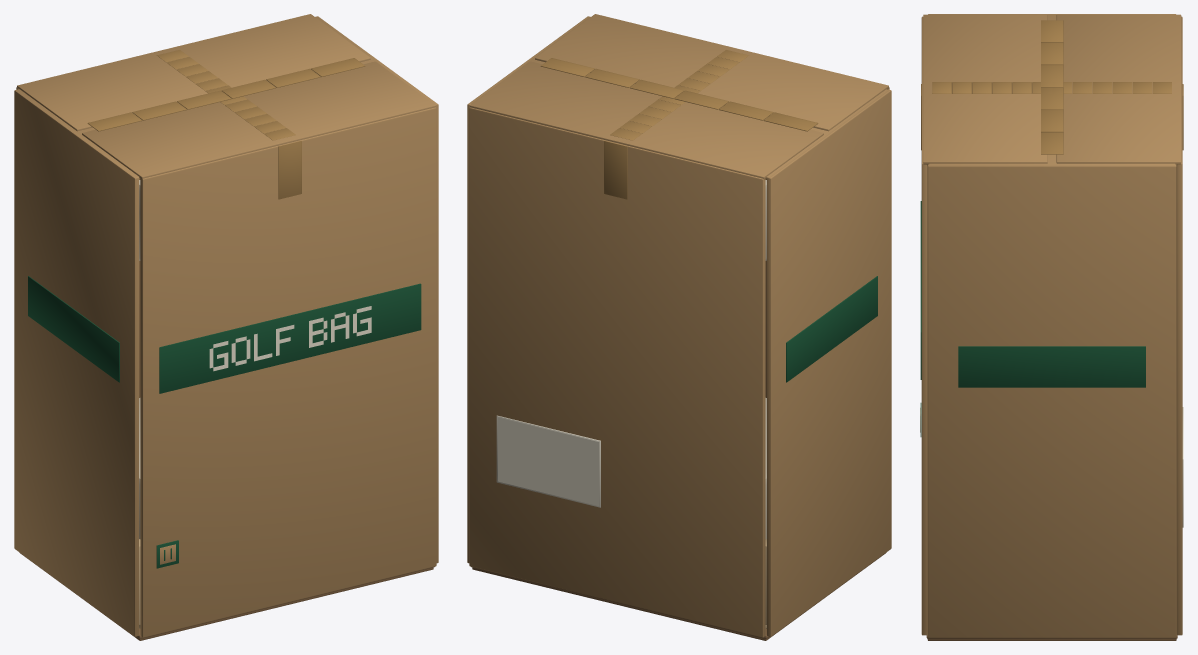
File: delivery_golf_bag_carton.glb
3 views of the same model, side by side, from view 1: azimuth 30°, elevation 25°; view 2: azimuth 150°, elevation 25°; view 3: azimuth 270°, elevation 25° (orthographic). The views are drawn at different scales.
Visible parts, largest first — view 1: BOX_FRONT, BOX_LEFT, FLAP_TOP_FRONT, FLAP_TOP_BACK, LABEL_MAIN, CATEGORY_SIDE_BAND_LEFT, TAPE_CENTER, LABEL_CATEGORY_TEXT, BOX_RIGHT, TAPE_SIDE_FRONT, BOX_BASE; view 2: BOX_BACK, BOX_LEFT, FLAP_TOP_BACK, FLAP_TOP_FRONT, LABEL_DYNAMIC, CATEGORY_SIDE_BAND_LEFT, TAPE_CENTER, BOX_RIGHT, TAPE_SIDE_BACK, BOX_BASE, SHIPPING_LABEL_BACKING; view 3: BOX_RIGHT, FLAP_TOP_BACK, FLAP_TOP_FRONT, CATEGORY_SIDE_BAND_RIGHT, BOX_FRONT, BOX_BACK, TAPE_CENTER, FLAP_TOP_RIGHT, TAPE_CROSS_SEG_05, TAPE_CROSS_SEG_01, TAPE_CROSS_SEG_02, TAPE_CROSS_SEG_03 (+3 smaller).
Boxes of the visible parts, x1,y1,x2,y2 form: BOX_FRONT: (140, 107, 436, 637); BOX_LEFT: (14, 89, 139, 636); FLAP_TOP_FRONT: (82, 61, 435, 179); FLAP_TOP_BACK: (17, 14, 370, 131); LABEL_MAIN: (159, 283, 421, 393); CATEGORY_SIDE_BAND_LEFT: (28, 276, 119, 382); TAPE_CENTER: (157, 50, 295, 140); LABEL_CATEGORY_TEXT: (209, 306, 371, 371); BOX_RIGHT: (315, 16, 438, 563); TAPE_SIDE_FRONT: (278, 141, 301, 199); BOX_BASE: (19, 552, 433, 640); BOX_BACK: (469, 107, 765, 637); BOX_LEFT: (766, 89, 891, 636); FLAP_TOP_BACK: (470, 61, 823, 179); FLAP_TOP_FRONT: (535, 14, 888, 131); LABEL_DYNAMIC: (498, 417, 599, 505); CATEGORY_SIDE_BAND_LEFT: (786, 276, 877, 382); TAPE_CENTER: (610, 50, 748, 140); BOX_RIGHT: (467, 16, 590, 563); TAPE_SIDE_BACK: (604, 141, 627, 199); BOX_BASE: (472, 552, 886, 640); SHIPPING_LABEL_BACKING: (496, 415, 600, 507); BOX_RIGHT: (927, 164, 1176, 637); FLAP_TOP_BACK: (1056, 14, 1181, 164); FLAP_TOP_FRONT: (923, 14, 1047, 165); CATEGORY_SIDE_BAND_RIGHT: (958, 346, 1145, 387); BOX_FRONT: (921, 16, 927, 635); BOX_BACK: (1176, 16, 1182, 635); TAPE_CENTER: (932, 82, 1171, 93); FLAP_TOP_RIGHT: (929, 154, 1175, 164); TAPE_CROSS_SEG_05: (1041, 109, 1063, 132); TAPE_CROSS_SEG_01: (1041, 20, 1063, 42); TAPE_CROSS_SEG_02: (1041, 42, 1063, 64); TAPE_CROSS_SEG_03: (1041, 65, 1063, 87).
Size of what is drawn, in the model's own units: 0.7242 by 1.06 by 0.5252.
